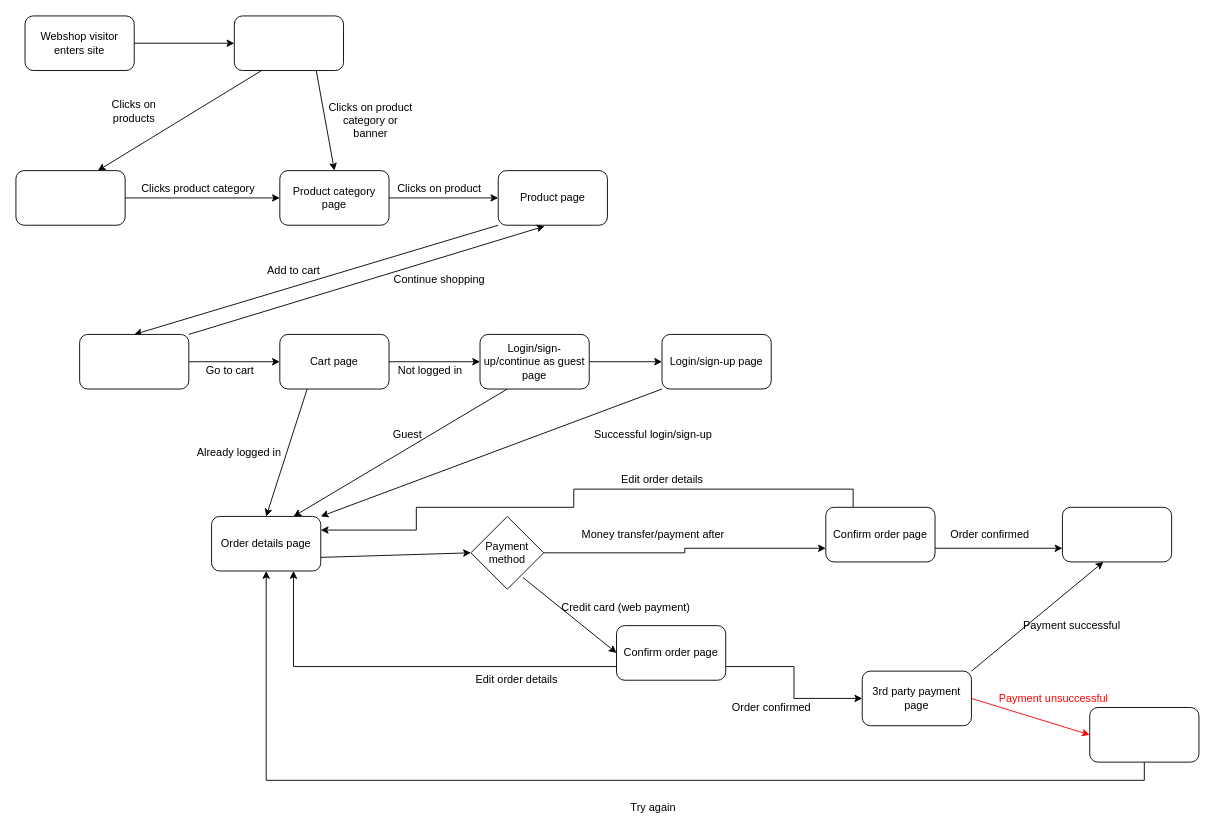
Some shapes in this 1215 by 833 pixel diagram are drawn without their labels. The shapes that lost their labels are listed below. From the top down, each one's centre as x and y in pixels, then its label:
(288,43): E-commerce home page
(70,197): Product categories page
(134,361): Added to cart popup
(1117,534): Order successful
(1144,734): Order unsuccessful, cart contents saved
